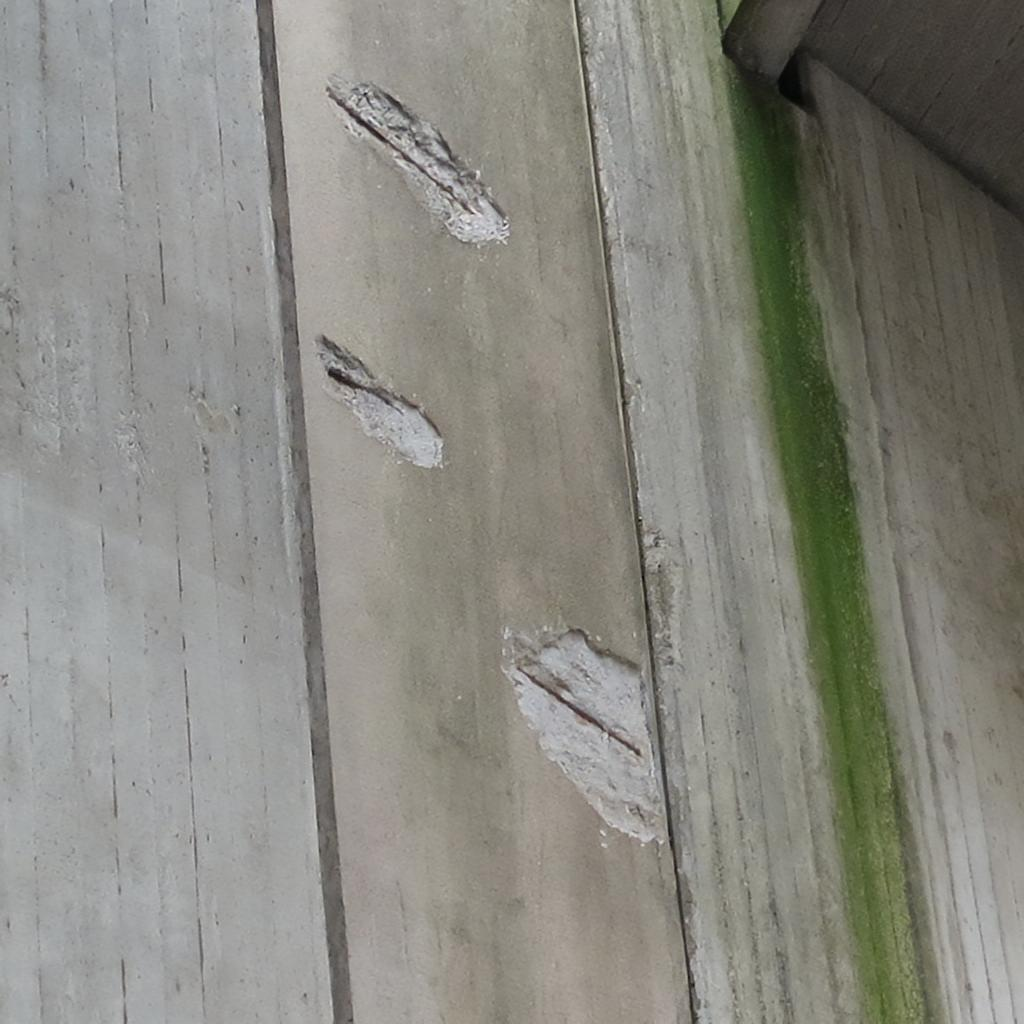exposed_rebar: (326, 86, 462, 201), (526, 675, 640, 753), (328, 371, 426, 419)
spalling: (504, 630, 666, 842), (326, 76, 510, 243), (316, 336, 444, 467)
